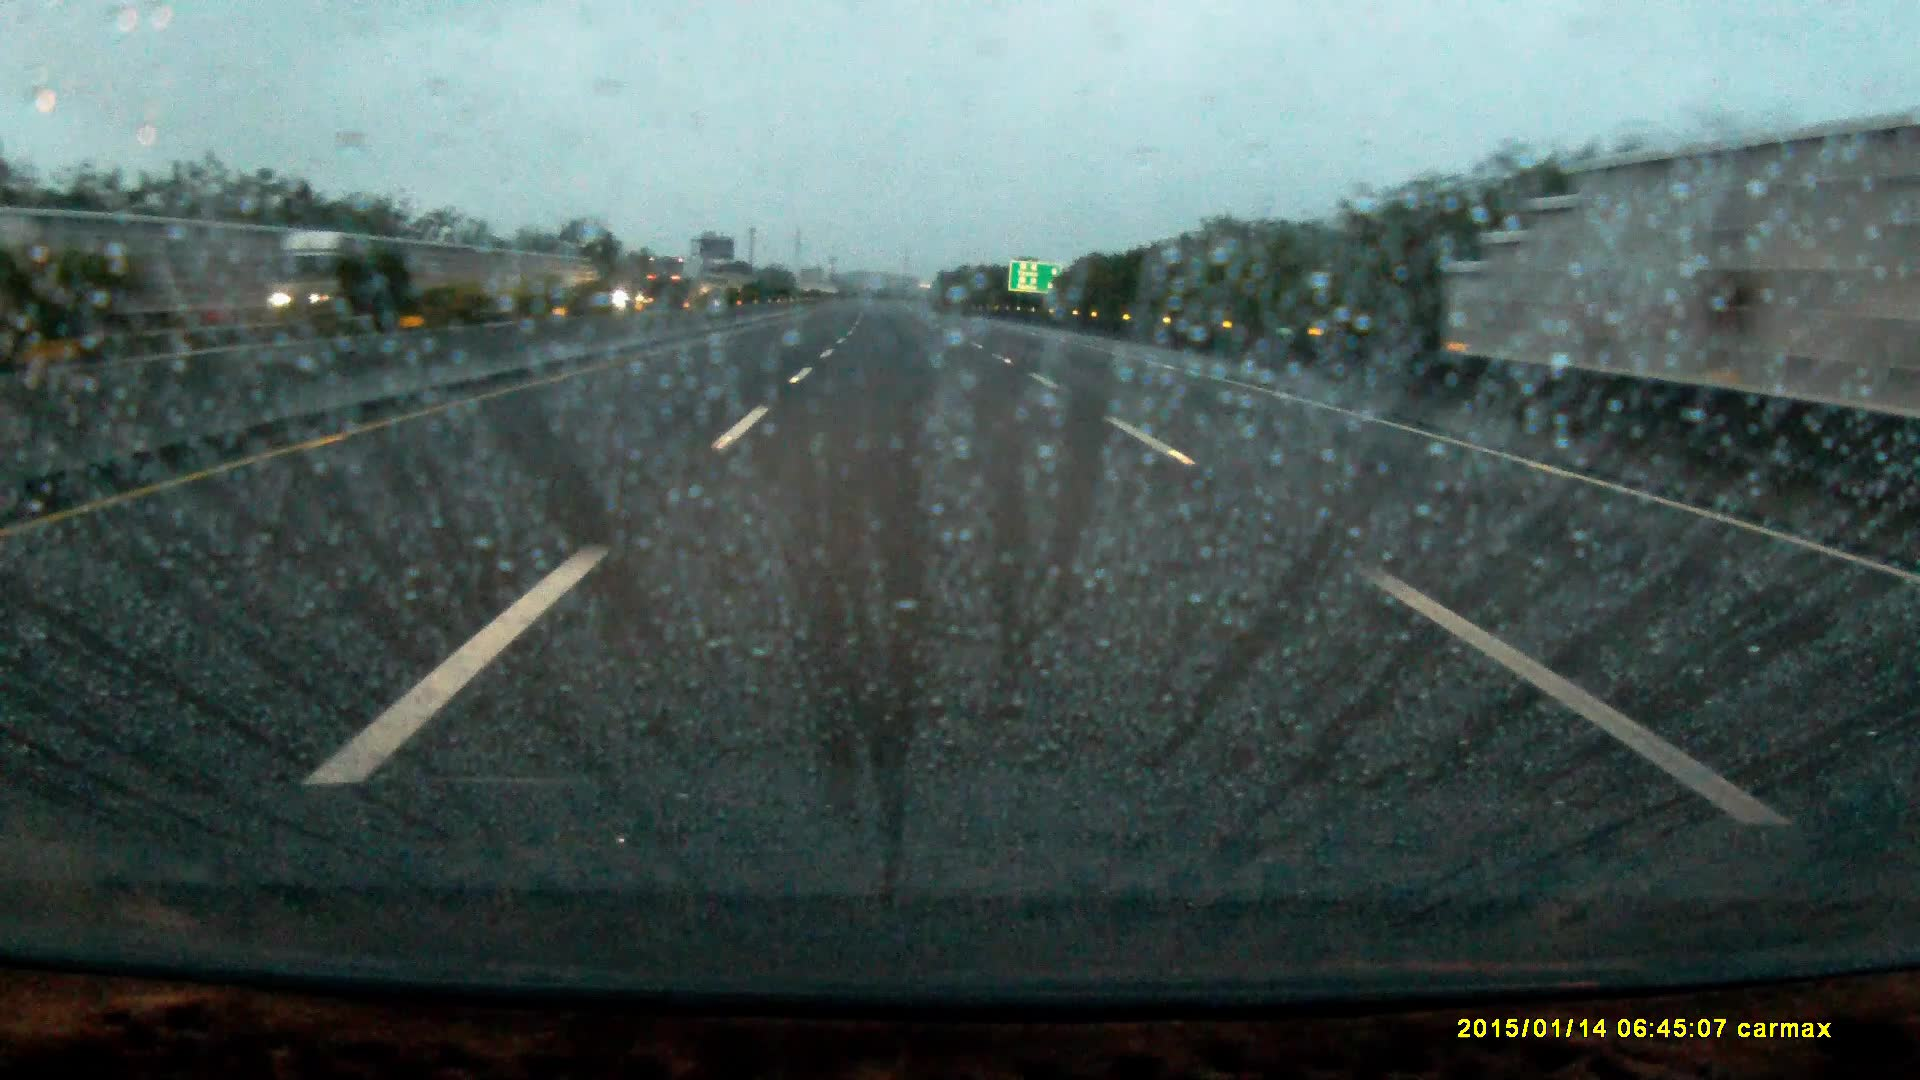vehicle: (264, 229, 397, 340), (644, 256, 702, 315)
